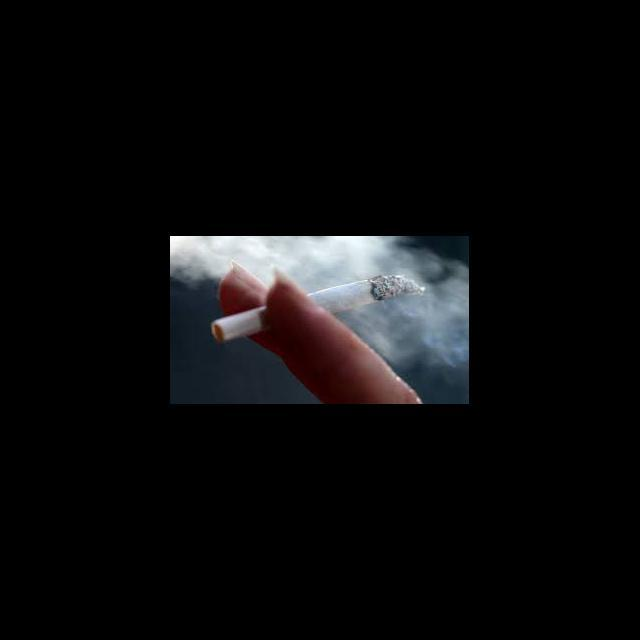Smoke: (389, 325, 468, 367), (290, 240, 368, 276), (172, 236, 222, 273), (378, 236, 429, 268), (410, 300, 470, 324), (244, 240, 274, 262)
